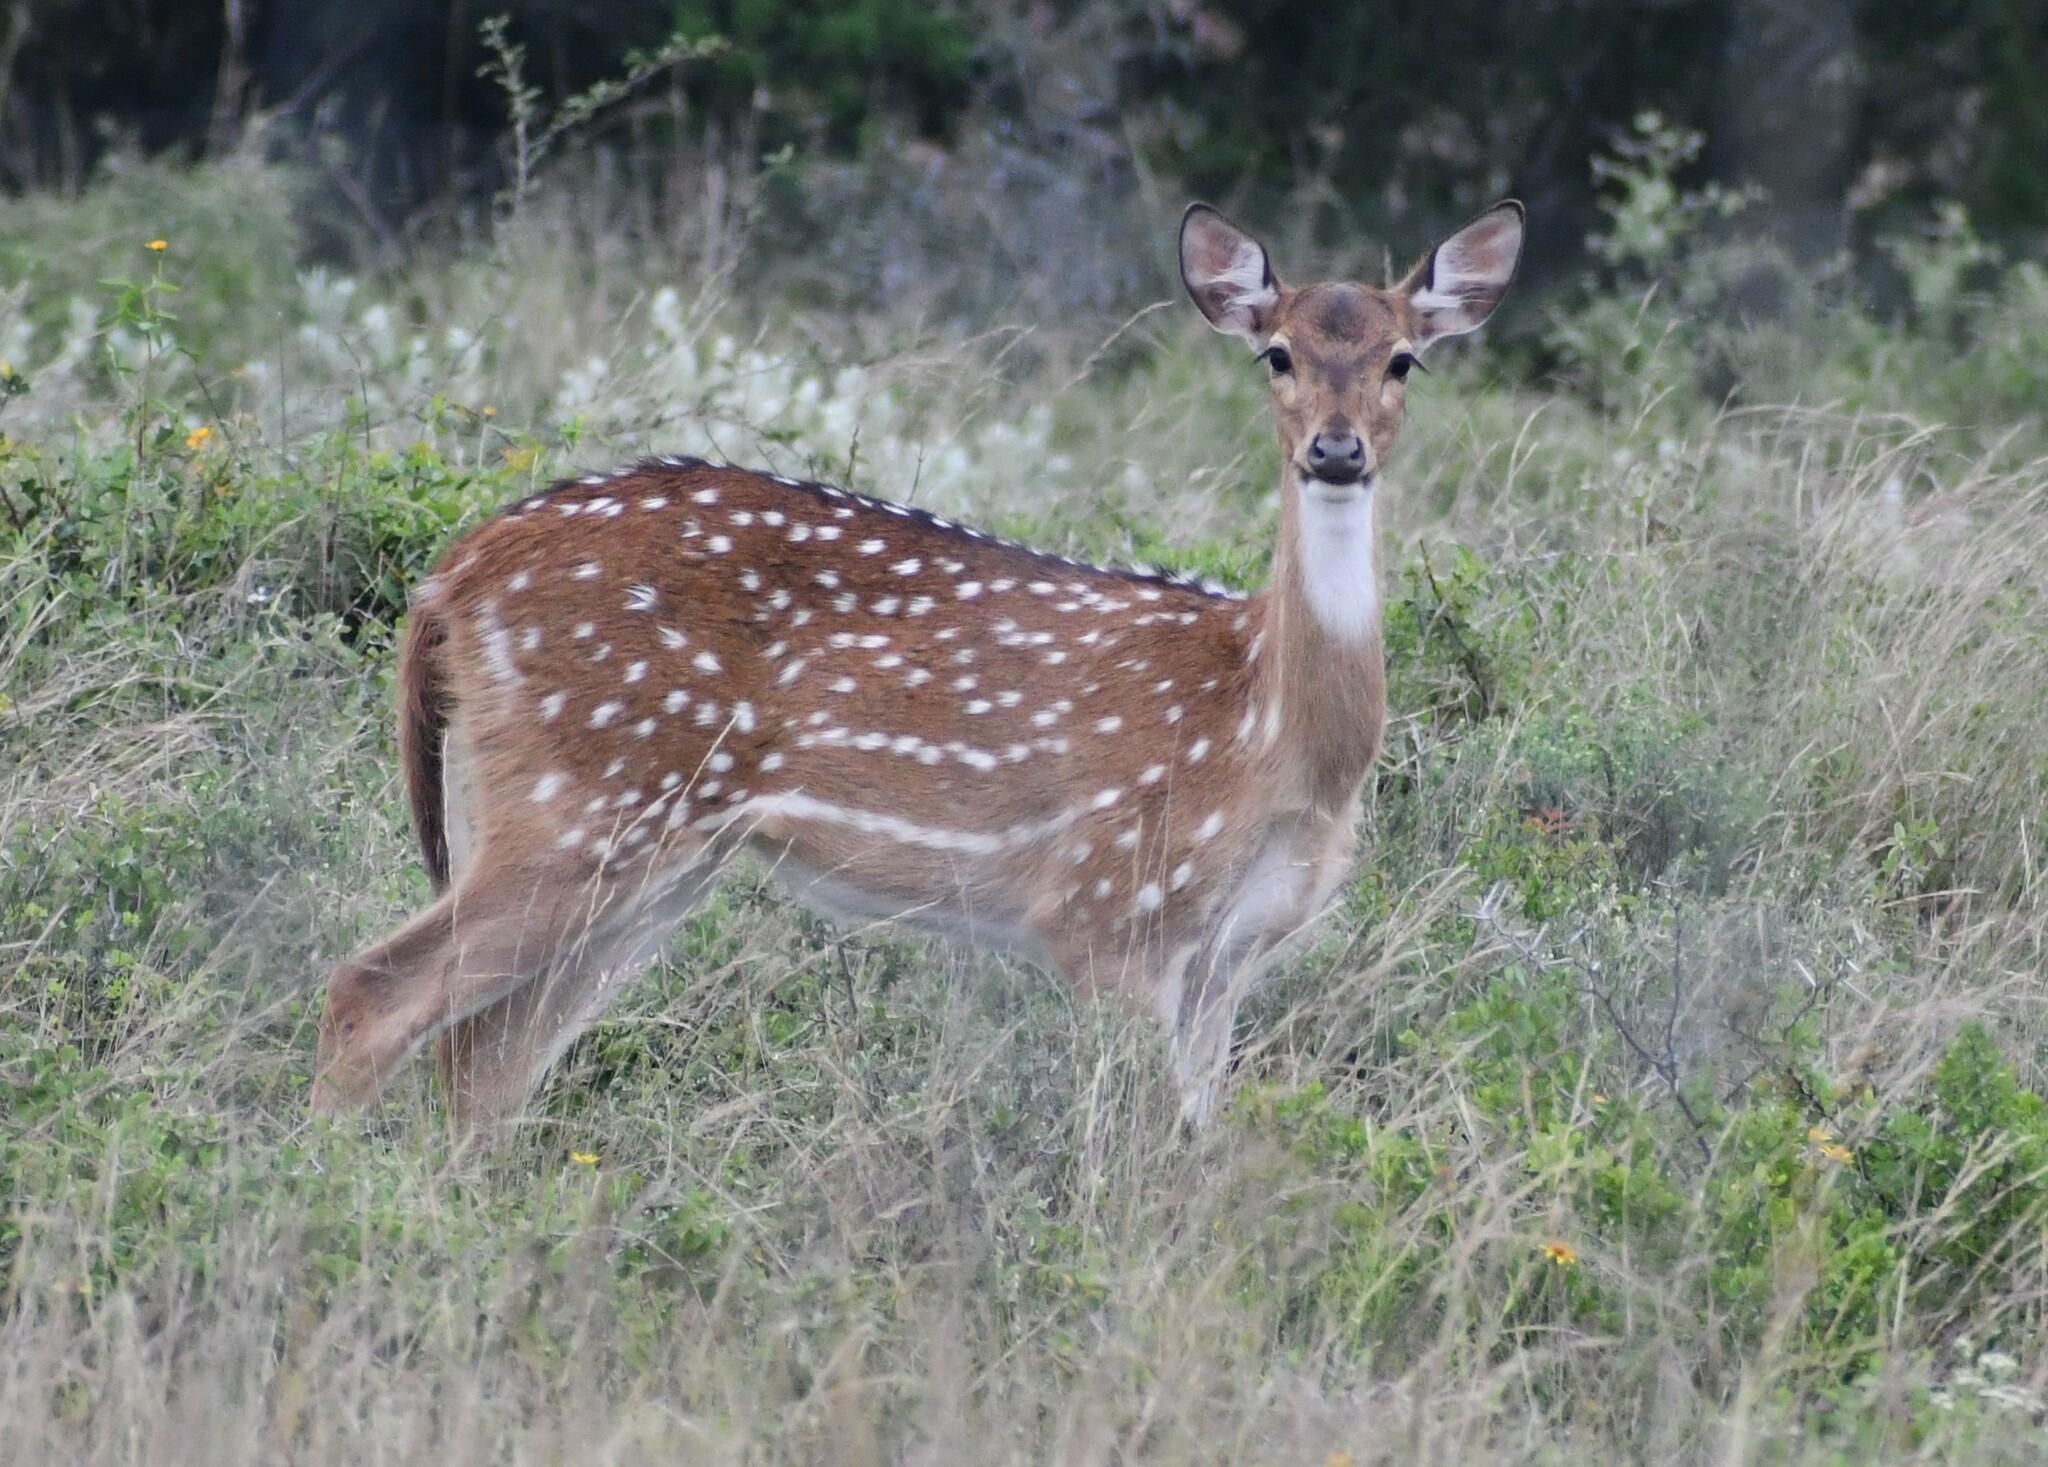Deer: (313, 198, 1526, 1122)
